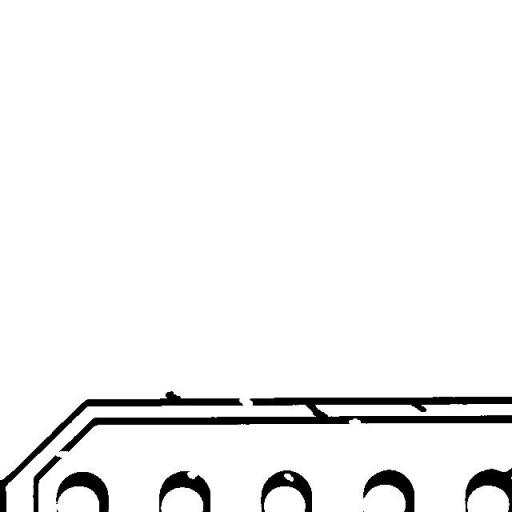mousebite: (341, 410, 368, 432), (179, 464, 205, 486)
open: (231, 388, 260, 414), (47, 443, 76, 465)
pin-hole: (276, 466, 301, 488)
short: (295, 391, 335, 427)
spur: (403, 393, 434, 419), (158, 383, 188, 407)
